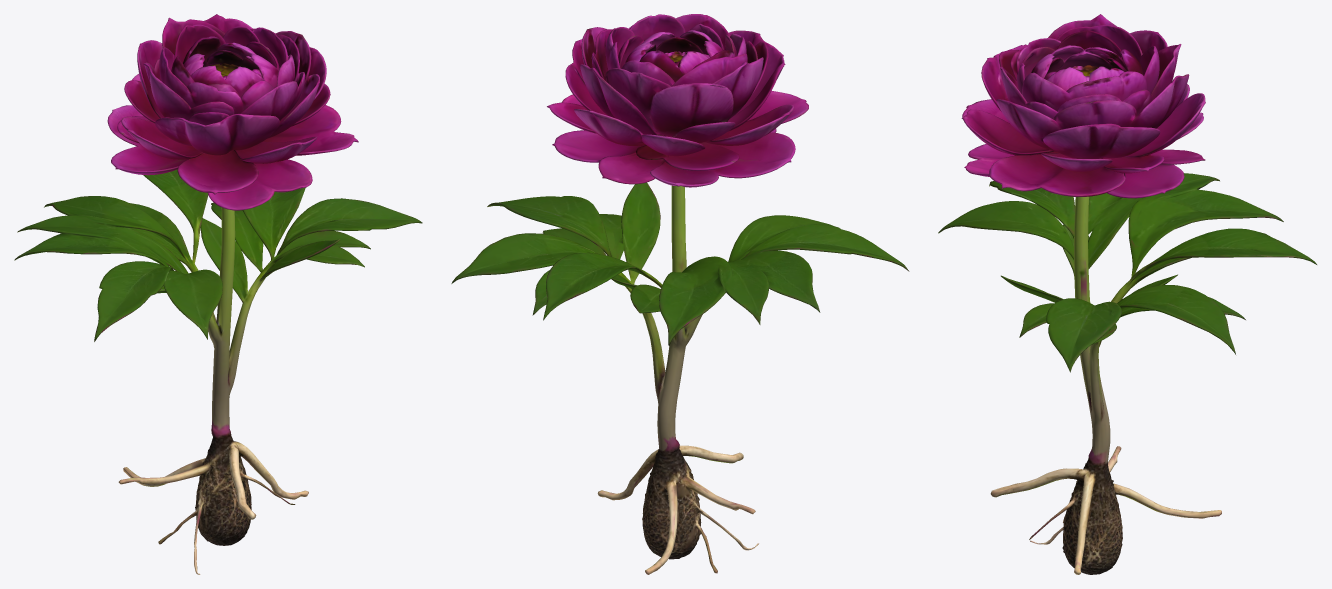
The model's file is mudanpi.glb.
3 renders of one model, left to right at view 1: azimuth 30°, elevation 25°; view 2: azimuth 150°, elevation 25°; view 3: azimuth 270°, elevation 25°, orthographic. The views are drawn at different scales.
Visible parts, largest first — view 1: node_0; view 2: node_0; view 3: node_0.
Part boxes in pixels (x1=…): node_0: x1=14, y1=14, x2=422, y2=574; node_0: x1=451, y1=14, x2=909, y2=574; node_0: x1=938, y1=14, x2=1316, y2=574.
Bounding box in the file's own units: 0.8564 × 1.11 × 0.7318.
Materials: 1 (1 with a texture image).
